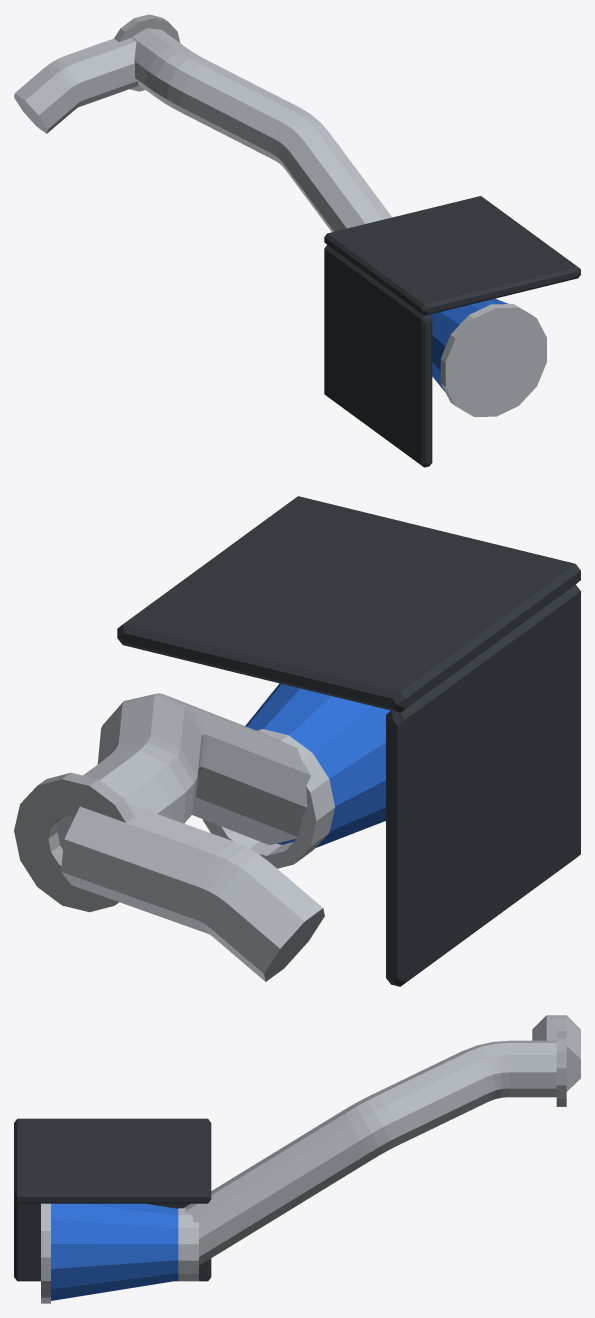
Rendered from kaze_gt.glb.
3 views of the same model, one above another, from view 1: azimuth 30°, elevation 25°; view 2: azimuth 150°, elevation 25°; view 3: azimuth 270°, elevation 25° (orthographic). The views are drawn at different scales.
Visible parts, largest first — view 1: model; view 2: model; view 3: model.
Part boxes in pixels (bbox=[...]): model: bbox=[14, 14, 580, 467]; model: bbox=[14, 496, 580, 986]; model: bbox=[14, 1015, 580, 1303].
Size of the model in its own units: 0.3949 by 0.326 by 0.6896.
2 materials, 1 textured.
